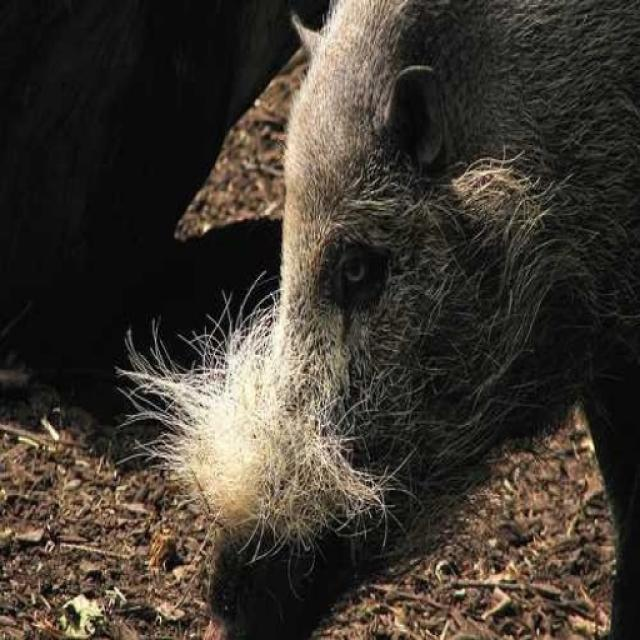pig: (56, 0, 640, 638)
